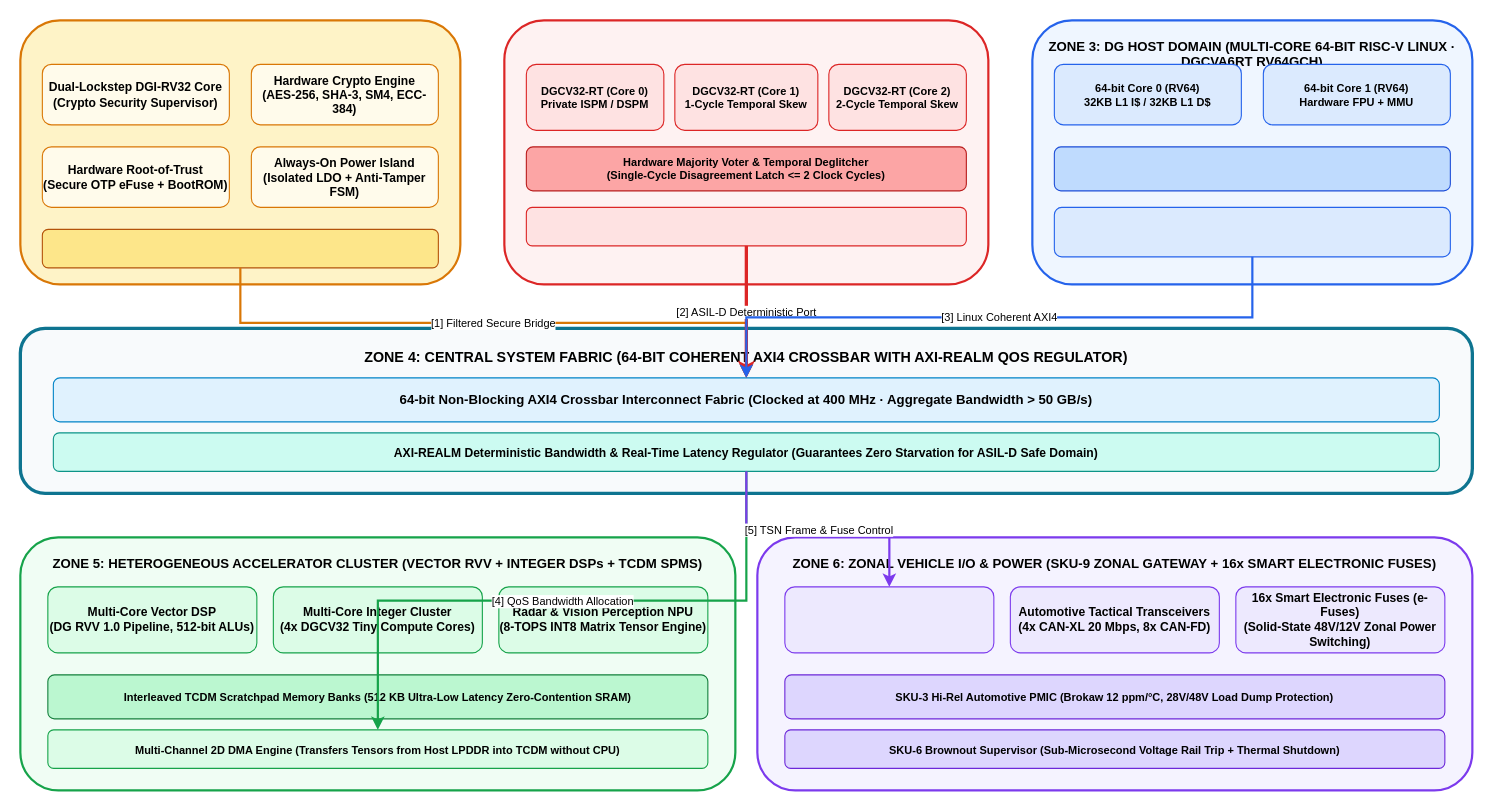
Image size: 1493x810. Some labels were removed from this diagram. The shapes that lost their labels are listed below. From the top down, each one's box as (x1, y1, x2, y2) in pixels, then its label:
(19, 19, 461, 285): ZONE 1: DG SECURE ROOT-OF-TRUST DOMAIN (EVITA-FULL / COMMON CRITERIA EAL5+)
(503, 19, 989, 285): ZONE 2: DG SAFE REAL-TIME DOMAIN (TRIPLE-CORE LOCKSTEP TMR · ISO 26262 ASIL-D)
(1053, 146, 1450, 191): Coherent Shared L2 Cache (1 MB ECC) + Coherency Unit
(525, 206, 966, 246): Fault Collection & Diagnostic Unit (FCDU) -> FAULTn Output
(1053, 206, 1450, 257): LPDDR4/5 Memory Controller (64-bit, up to 8GB ECC DRAM)
(41, 228, 438, 268): Secure AXI Isolated Filter Bridge
(784, 586, 994, 653): Gigabit TSN Ethernet Switch (IEEE 802.1Qbv Time-Aware Shaper)
